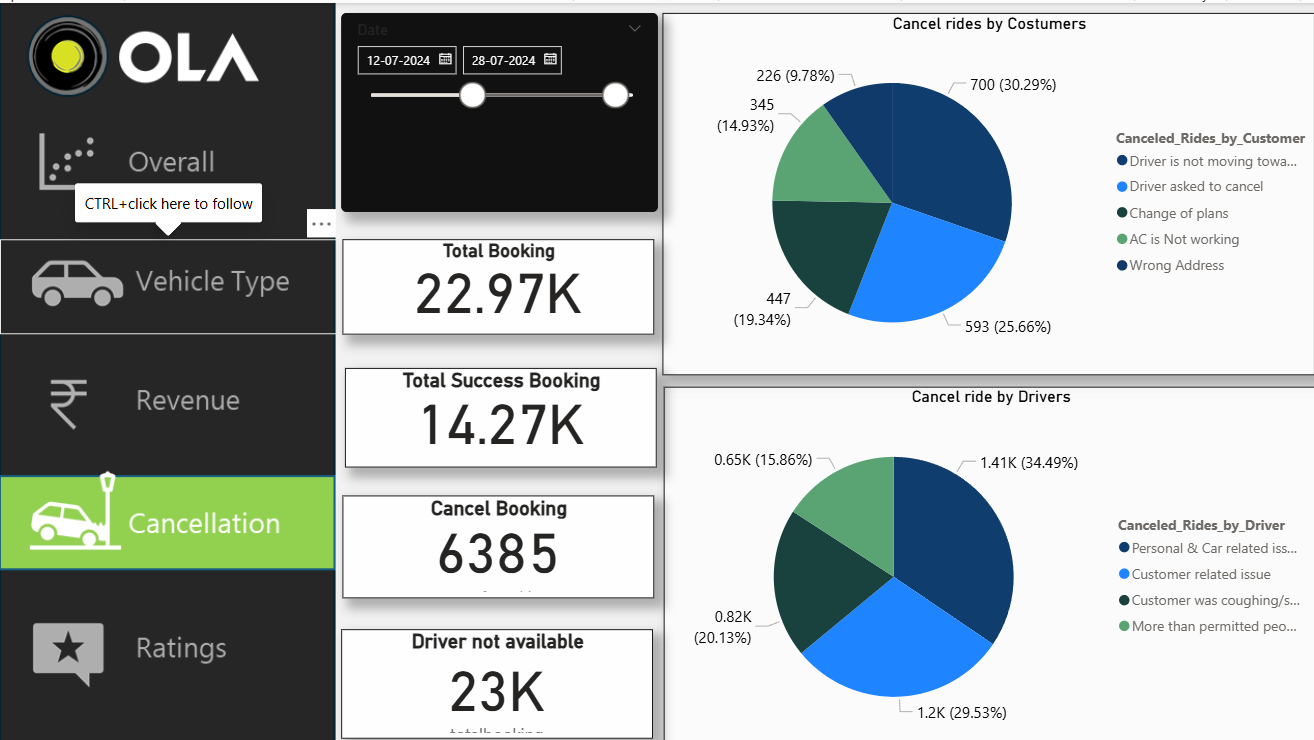

The dashboard page shown, as its layout file describes it:
{"tool":"powerbi","page":{"name":"cancellection","canvas":[1280,720],"ordinal":3},"visuals":[{"type":"actionButton","box":[0,575.5,325.2,91.6],"z":0},{"type":"actionButton","box":[0,341.9,325.2,91.6],"z":1000},{"type":"actionButton","box":[0,228.4,325.2,91.6],"z":2000},{"type":"actionButton","box":[0,109.7,325.2,91.6],"z":3000},{"type":"pieChart","title":"Cancel rides by Costumers","fields":{"Y":["CountNonNull(July.Canceled_Rides_by_Customer)"],"Category":["July.Canceled_Rides_by_Customer"]},"box":[640,10.1,629.9,349.4],"z":4000},{"type":"pieChart","title":"Cancel ride by Drivers","fields":{"Category":["July.Canceled_Rides_by_Driver"],"Y":["CountNonNull(July.Canceled_Rides_by_Driver)"]},"box":[640.6,369.9,630.7,350.1],"z":5000},{"type":"slicer","title":"Date","fields":{"Values":["July.Date"]},"box":[329.4,9.7,305.2,191.8],"z":6000},{"type":"card","title":"Total Booking","fields":{"Values":["CountNonNull(July.Booking_ID)"]},"box":[330.9,228.5,300.7,92.4],"z":7000},{"type":"card","title":"Total Success Booking","fields":{"Values":["CountNonNull(July.Booking_ID)"]},"box":[332.6,352.8,300.7,95.7],"z":8000},{"type":"card","title":"Cancel Booking","fields":{"Values":["CountNonNull(July.Booking_ID)"]},"box":[330.9,475.4,300.7,99.1],"z":9000},{"type":"card","title":"Driver not available","fields":{"Values":["July.totalbooking"]},"box":[329.2,604.7,300.7,105.8],"z":10000}]}

Visuals, with their boxes in screenshot pixels (x1, y1, x2, y2):
actionButton: left=0, top=601, right=331, bottom=697
actionButton: left=0, top=355, right=331, bottom=452
actionButton: left=0, top=236, right=331, bottom=332
actionButton: left=0, top=112, right=331, bottom=208
"Cancel rides by Costumers" pieChart: left=661, top=7, right=1313, bottom=374
"Cancel ride by Drivers" pieChart: left=662, top=385, right=1313, bottom=739
"Date" slicer: left=335, top=7, right=656, bottom=208
"Total Booking" card: left=337, top=236, right=653, bottom=333
"Total Success Booking" card: left=339, top=367, right=654, bottom=467
"Cancel Booking" card: left=337, top=496, right=653, bottom=600
"Driver not available" card: left=335, top=631, right=651, bottom=739
